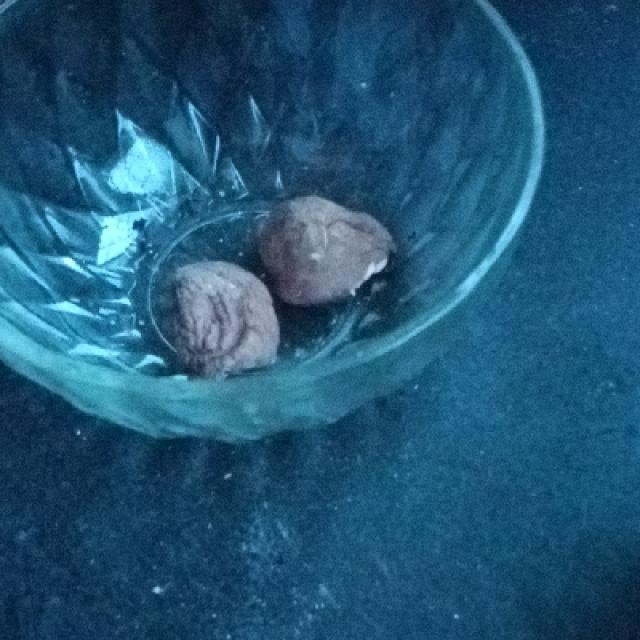Lentinus edodes: (249, 192, 394, 303), (172, 259, 279, 380)
